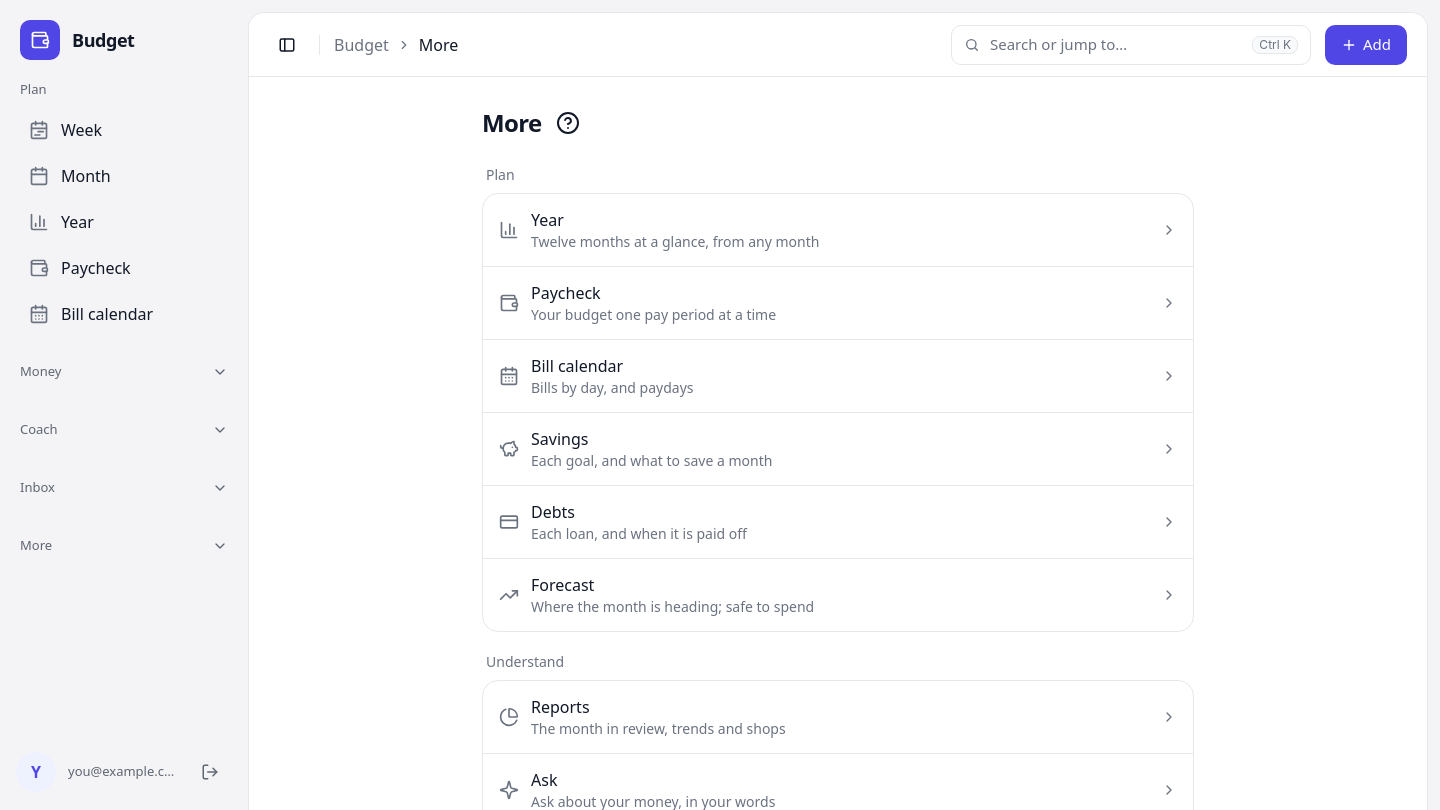
it: the ? beside every screen’s title › on /more opens its article in a sheet, with Show me for the whole of it
This screenshot has width=1440, height=810.
expect the heading "More" is shown: met, box x1=482 y1=107 x2=542 y2=139
Click the button named "Help with this screen" at x=568, y=123, box x1=546 y1=101 x2=590 y2=145
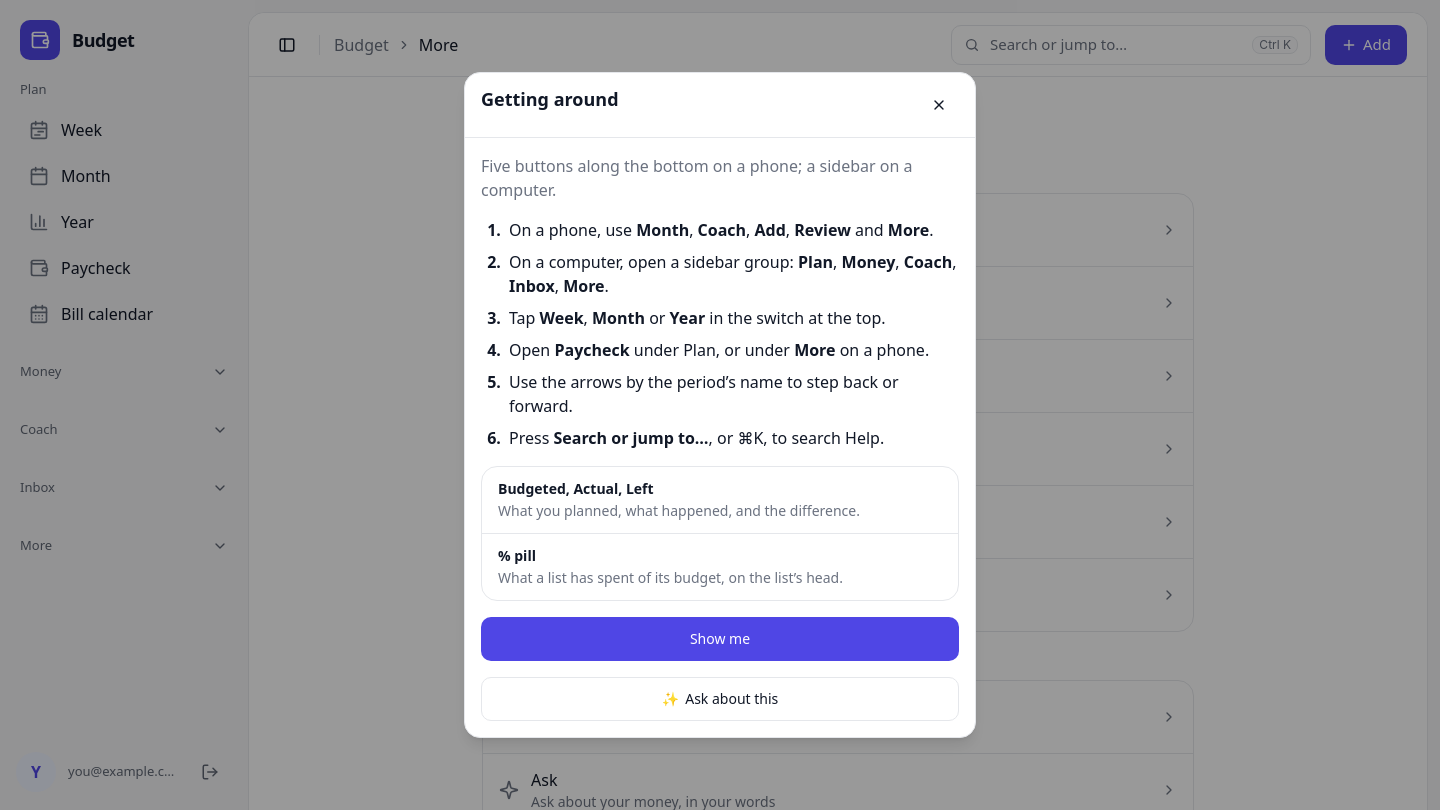
expect the heading "Getting around" is shown: met, box x1=481 y1=87 x2=619 y2=111
Click the button named "Close" at x=939, y=105, box x1=919 y1=85 x2=959 y2=125
(page scrolled)
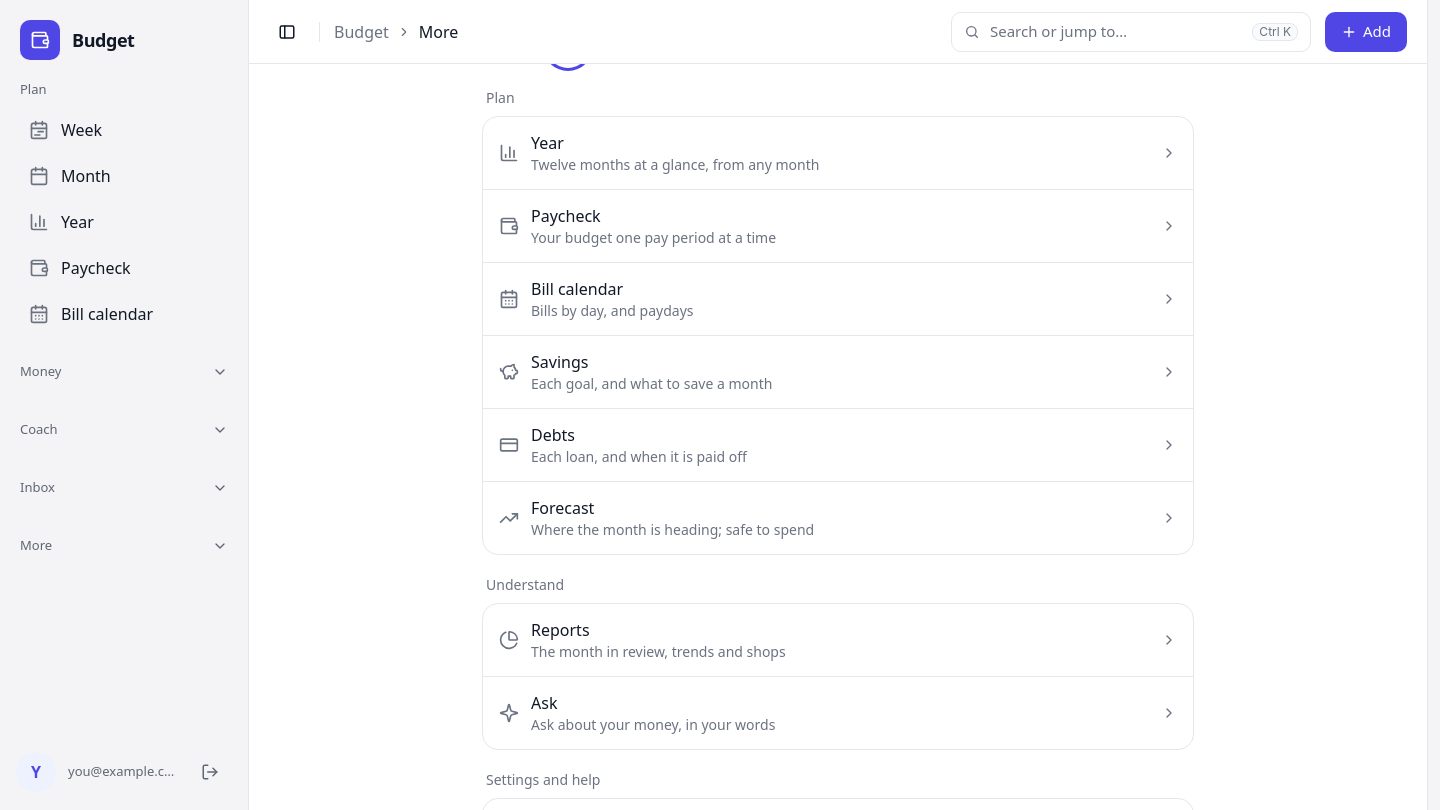
expect the dialog is gone: met
